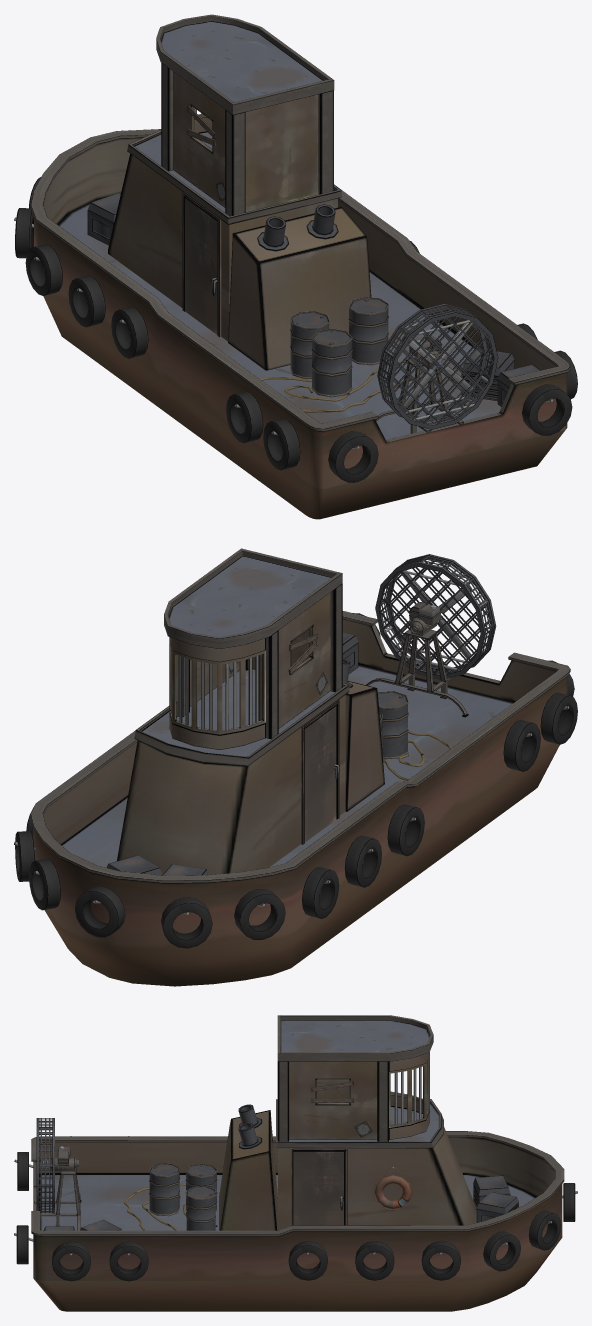
Rendered from tug_boat.fbx.
The picture shows the model from 3 angles, top to bottom: view 1: azimuth 30°, elevation 25°; view 2: azimuth 150°, elevation 25°; view 3: azimuth 270°, elevation 25°; orthographic projection. The views are drawn at different scales.
Parts seen in each view (by area): view 1: tug_boat; view 2: tug_boat; view 3: tug_boat.
Boxes of the visible parts, x1,y1,x2,y2 form: tug_boat: [14, 14, 577, 519]; tug_boat: [14, 548, 577, 986]; tug_boat: [14, 1015, 577, 1311].
Bounding box in the file's own units: 601 × 578 × 1272.
Materials: 1 (1 with a texture image).
